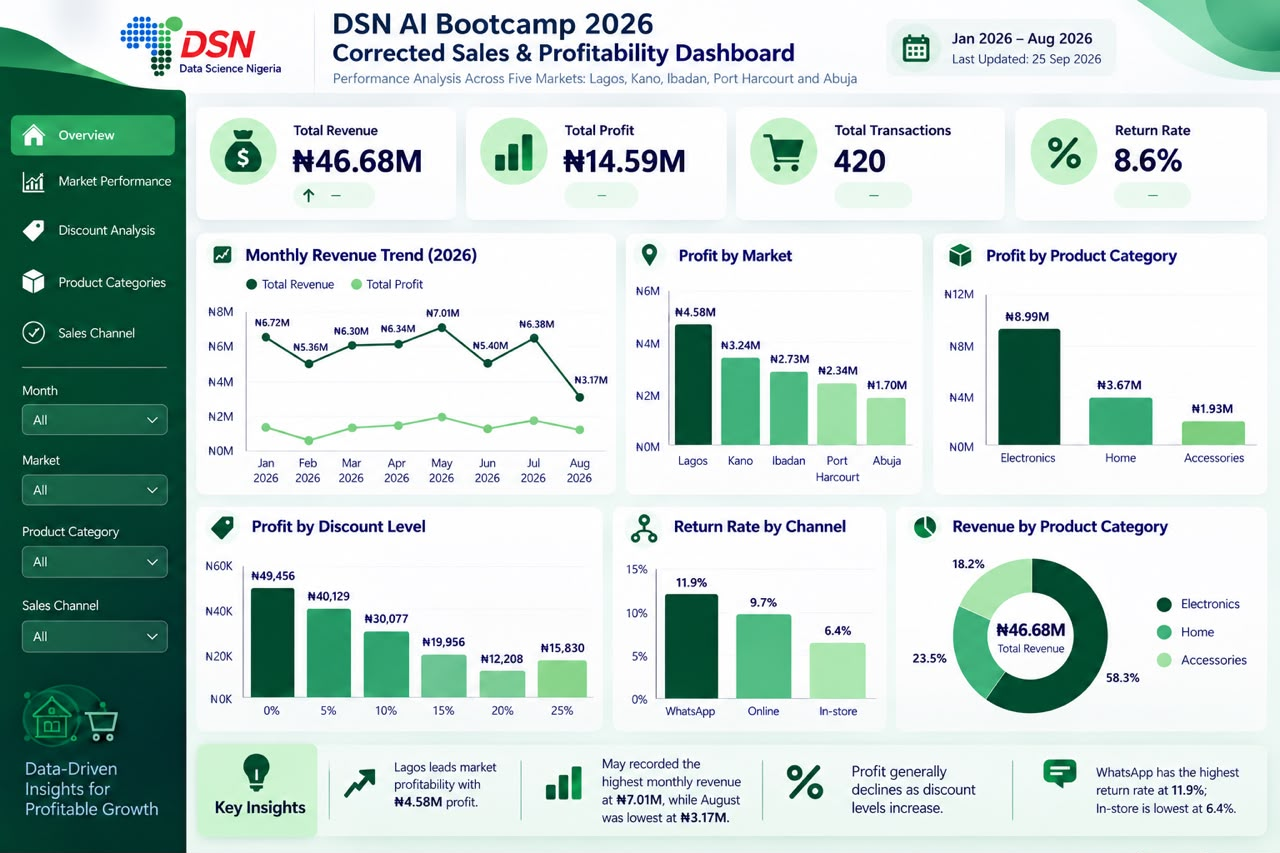

This screenshot's page, from the dashboard's own definition file:
{"tool":"powerbi","page":{"name":"Page 1","canvas":[1280,720],"ordinal":0},"visuals":[{"type":"cardVisual","fields":{"Data":["Cleaned_Data.Total Revenue"]},"box":[29.9,58.1,220,100.3],"z":0},{"type":"cardVisual","fields":{"Data":["Cleaned_Data.Total Profit"]},"box":[344.9,58.1,220,100.3],"z":1000},{"type":"cardVisual","fields":{"Data":["Cleaned_Data.Total Transactions"]},"box":[659.9,58.1,220,100.3],"z":2000},{"type":"cardVisual","fields":{"Data":["Cleaned_Data.Return Rate %"]},"box":[975,58.1,220,100.3],"z":3000},{"type":"lineChart","title":"Monthly Revenue Trend","fields":{"Category":["Cleaned_Data.Date.Variation.Date Hierarchy.Month"],"Y":["Sum(Cleaned_Data.Revenue _Calculated)"]},"box":[29.9,161.9,425.9,279.8],"z":4000},{"type":"clusteredColumnChart","title":"Profit by Market","fields":{"Category":["Cleaned_Data.State"],"Y":["Sum(Cleaned_Data.Profit_Calculated_NGN)"]},"box":[471.6,161.9,417.1,279.8],"z":5000},{"type":"clusteredColumnChart","title":"Profit by Product Category","fields":{"Category":["Cleaned_Data.Product_Category"],"Y":["Sum(Cleaned_Data.Profit_Calculated_NGN)"]},"box":[889,161.9,390.2,278.5],"z":6000},{"type":"clusteredColumnChart","title":"Return Rate by Channel","fields":{"Category":["Cleaned_Data.Channel"],"Y":["Cleaned_Data.Return Rate %"]},"box":[463.9,440.4,445.3,262.3],"z":7000},{"type":"clusteredColumnChart","title":"Profit by Discount Level","fields":{"Category":["Cleaned_Data.Discount_Pct"],"Y":["Sum(Cleaned_Data.Profit_Calculated_NGN)"]},"box":[40.5,440.4,430.7,262.3],"z":8000},{"type":"textbox","box":[105.2,17.8,921.3,53.4],"z":9000},{"type":"textbox","box":[885.7,450.1,367.6,238],"z":10000}]}

Visuals, with their boxes on the page's 1280x720 design canvas (x1, y1, x2, y2). These are canvas units, not pixel positions in the 1280x853 screenshot, which may show the page scaled, cropped or inside an application window:
cardVisual - Cleaned_Data.Total Revenue: (30, 58, 250, 158)
cardVisual - Cleaned_Data.Total Profit: (345, 58, 565, 158)
cardVisual - Cleaned_Data.Total Transactions: (660, 58, 880, 158)
cardVisual - Cleaned_Data.Return Rate %: (975, 58, 1195, 158)
"Monthly Revenue Trend" lineChart: (30, 162, 456, 442)
"Profit by Market" clusteredColumnChart: (472, 162, 889, 442)
"Profit by Product Category" clusteredColumnChart: (889, 162, 1279, 440)
"Return Rate by Channel" clusteredColumnChart: (464, 440, 909, 703)
"Profit by Discount Level" clusteredColumnChart: (40, 440, 471, 703)
textbox: (105, 18, 1026, 71)
textbox: (886, 450, 1253, 688)
